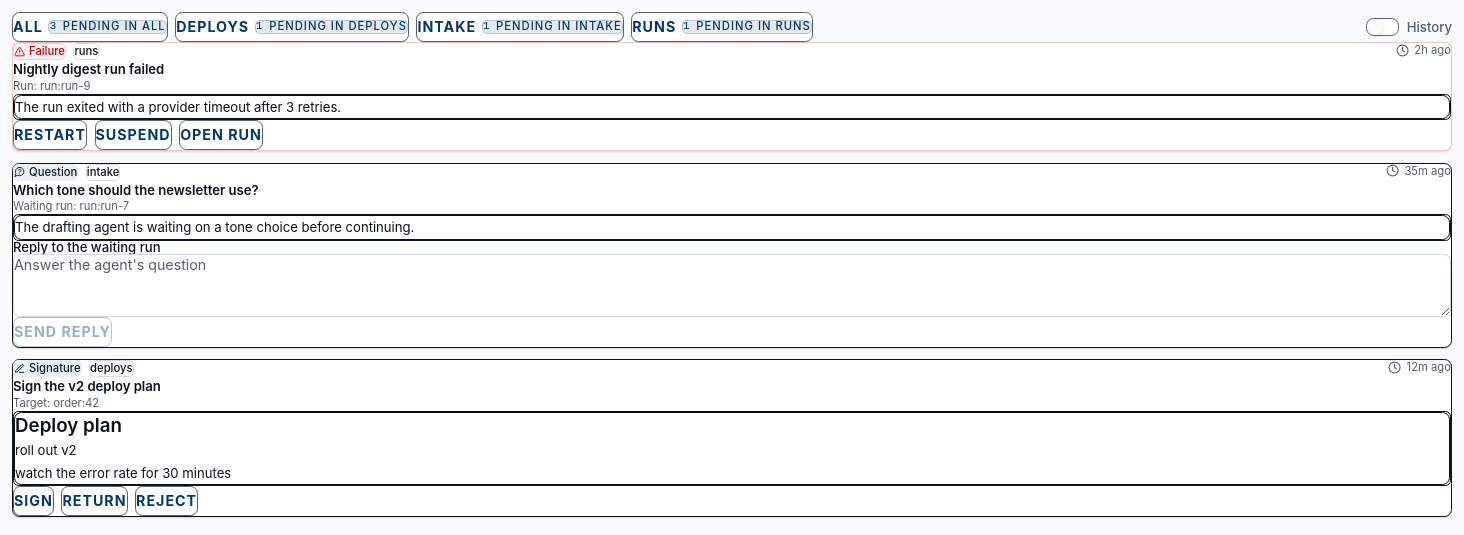
history toggle shows decided items
Expected: the text "Sign the v1 deploy plan" is not shown
Step 1. Click the switch → {"x": 1382, "y": 27}, box [1366,18,1399,36]
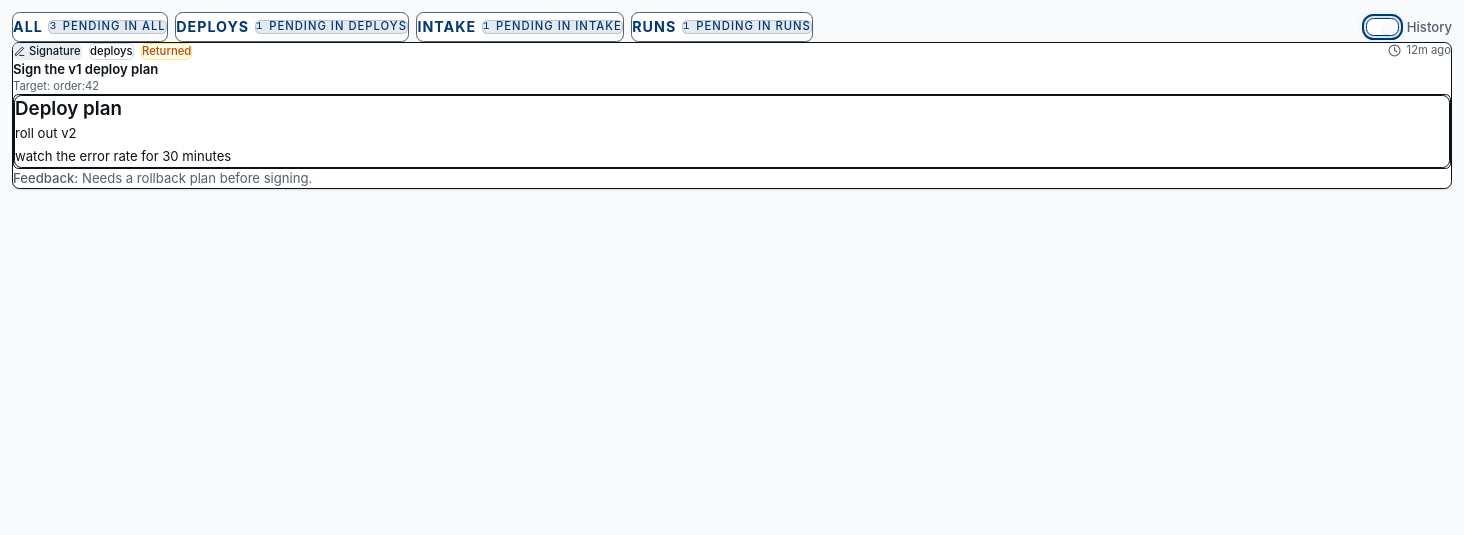
Expected: the heading "Sign the v1 deploy plan" is shown, [13,61,158,77]
Expected: the text "Sign the v2 deploy plan" is gone
